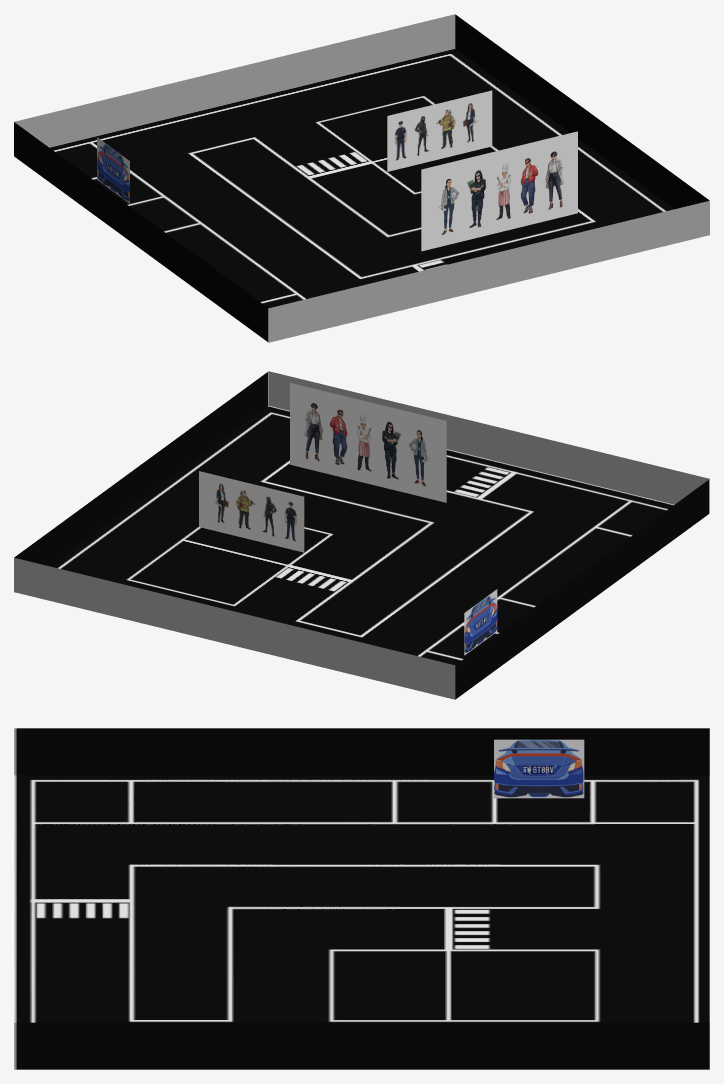
Rendered from shequ_4.dae.
The picture shows the model from 3 angles, top to bottom: view 1: azimuth 30°, elevation 25°; view 2: azimuth 150°, elevation 25°; view 3: azimuth 270°, elevation 25°; orthographic projection. The views are drawn at different scales.
Visible parts, largest first — view 1: 平面, rodesign0, rodesign1, cp; view 2: 平面, rodesign0, rodesign1, cp; view 3: 平面, cp.
Boxes of the visible parts, box(x1,y1,x2,y2) form: 平面: box(14, 14, 709, 342); rodesign0: box(421, 131, 577, 251); rodesign1: box(387, 90, 492, 171); cp: box(97, 137, 129, 203); 平面: box(14, 371, 709, 699); rodesign0: box(290, 383, 446, 502); rodesign1: box(199, 471, 304, 552); cp: box(464, 589, 497, 655); 平面: box(14, 728, 709, 1069); cp: box(494, 739, 584, 798).
Size of the model in its own units: 4.2 by 4.2 by 0.7465.
Materials: 4 (4 with a texture image).
